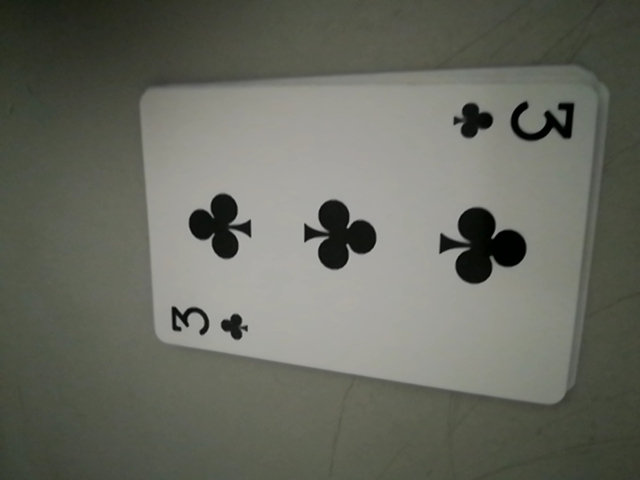mh 3: (454, 90, 574, 150), (164, 299, 257, 349)
